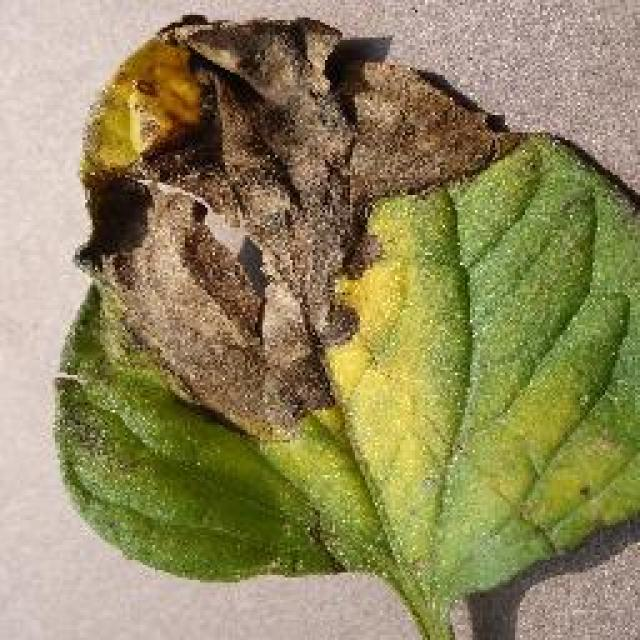Tomato___Late_blight: (50, 15, 638, 638)
